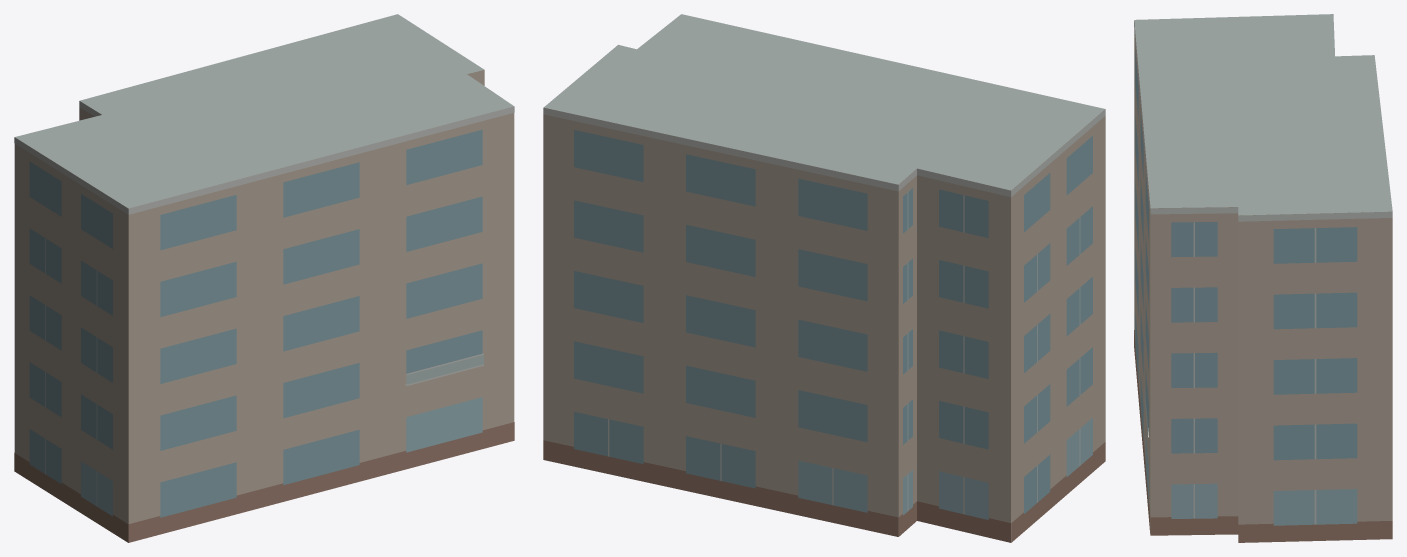
File: survey-upis-32561296.glb
3 renders of one model, left to right at view 1: azimuth 30°, elevation 25°; view 2: azimuth 150°, elevation 25°; view 3: azimuth 270°, elevation 25°, orthographic. The views are drawn at different scales.
Parts seen in each view (by area): view 1: survey-upis-32561296.tmp; view 2: survey-upis-32561296.tmp; view 3: survey-upis-32561296.tmp.
Part boxes in pixels (x1,y1,x2,y2): survey-upis-32561296.tmp: [14, 14, 514, 542]; survey-upis-32561296.tmp: [543, 14, 1105, 542]; survey-upis-32561296.tmp: [1134, 14, 1392, 542].
Size of the model in its own units: 17.03 by 12.9 by 9.24.
